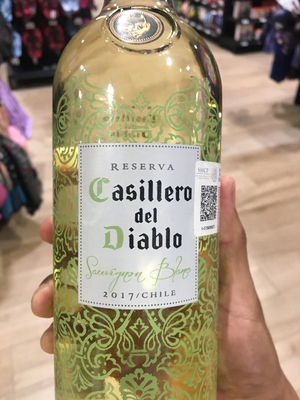casillero del diablo sauvignon blanc: (45, 14, 224, 400)
